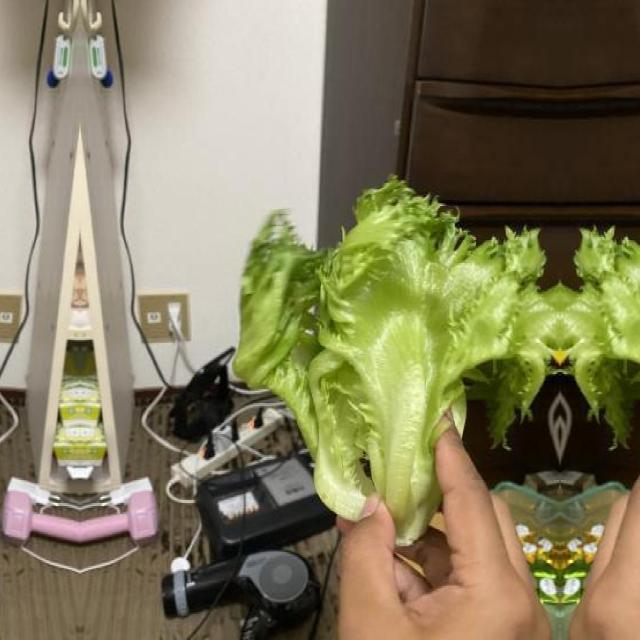healthy: (228, 172, 560, 552), (560, 172, 640, 552)
